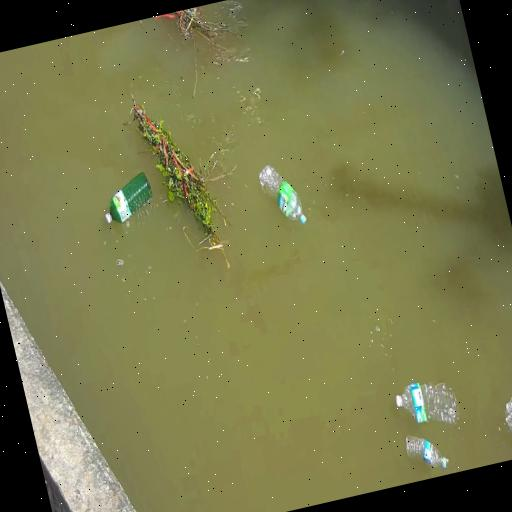plastic: (377, 374, 461, 440), (255, 156, 312, 240), (93, 168, 157, 230), (401, 422, 457, 478), (495, 383, 512, 460)
twig: (130, 77, 236, 250), (166, 2, 227, 70)
